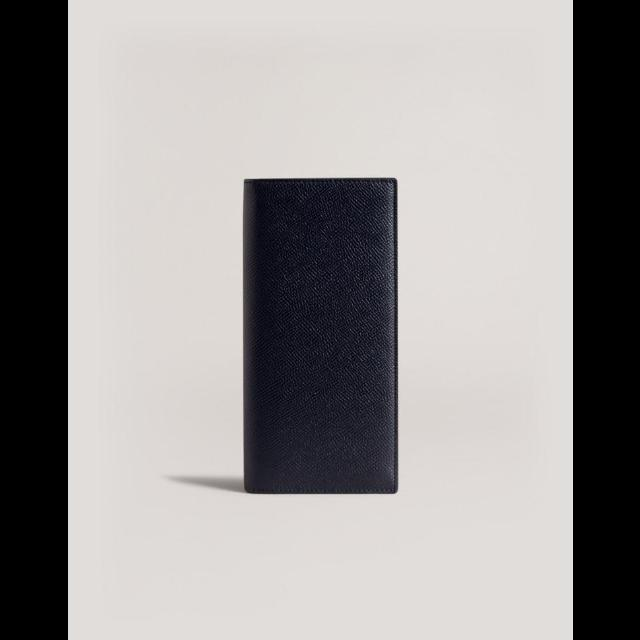Wallet: (238, 172, 404, 496)
